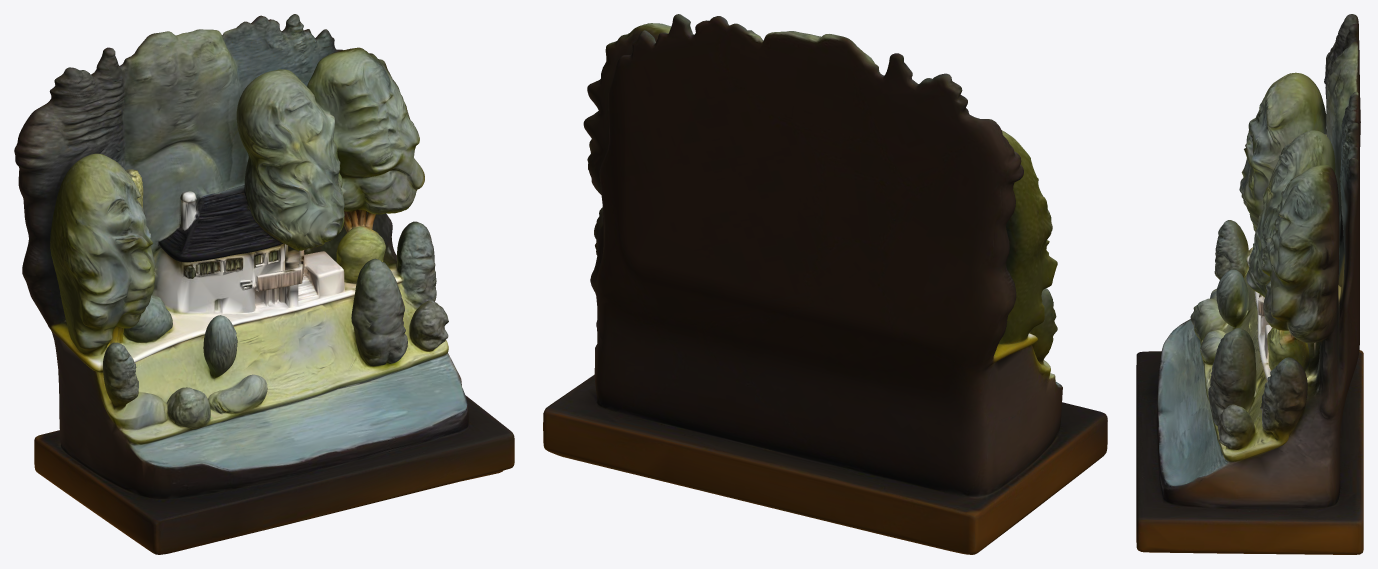
File: klimt-vr-web.glb
The picture shows the model from 3 angles, left to right: view 1: azimuth 30°, elevation 25°; view 2: azimuth 150°, elevation 25°; view 3: azimuth 270°, elevation 25°; orthographic projection. The views are drawn at different scales.
Visible parts, largest first — view 1: material; view 2: material; view 3: material.
Boxes of the visible parts, x1,y1,x2,y2 form: material: (14, 14, 514, 554); material: (543, 14, 1107, 554); material: (1136, 14, 1363, 554).
Bounding box in the file's own units: 0.8119 × 0.8092 × 0.4194.
1 material, 1 textured.
